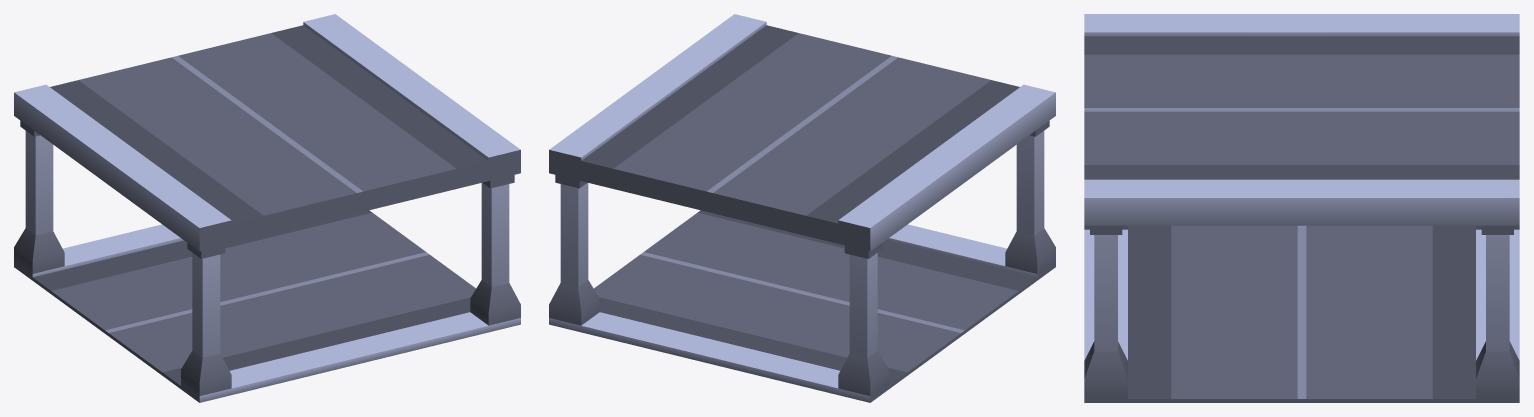
File: road-bridge.glb
The picture shows the model from 3 angles, left to right: view 1: azimuth 30°, elevation 25°; view 2: azimuth 150°, elevation 25°; view 3: azimuth 270°, elevation 25°; orthographic projection. The views are drawn at different scales.
Parts seen in each view (by area): view 1: road-bridge; view 2: road-bridge; view 3: road-bridge.
Boxes of the visible parts, x1,y1,x2,y2 form: road-bridge: (14, 14, 520, 402); road-bridge: (549, 14, 1055, 402); road-bridge: (1084, 14, 1519, 402).
Bounding box in the file's own units: 1 × 0.52 × 1.
1 material, 1 textured.
